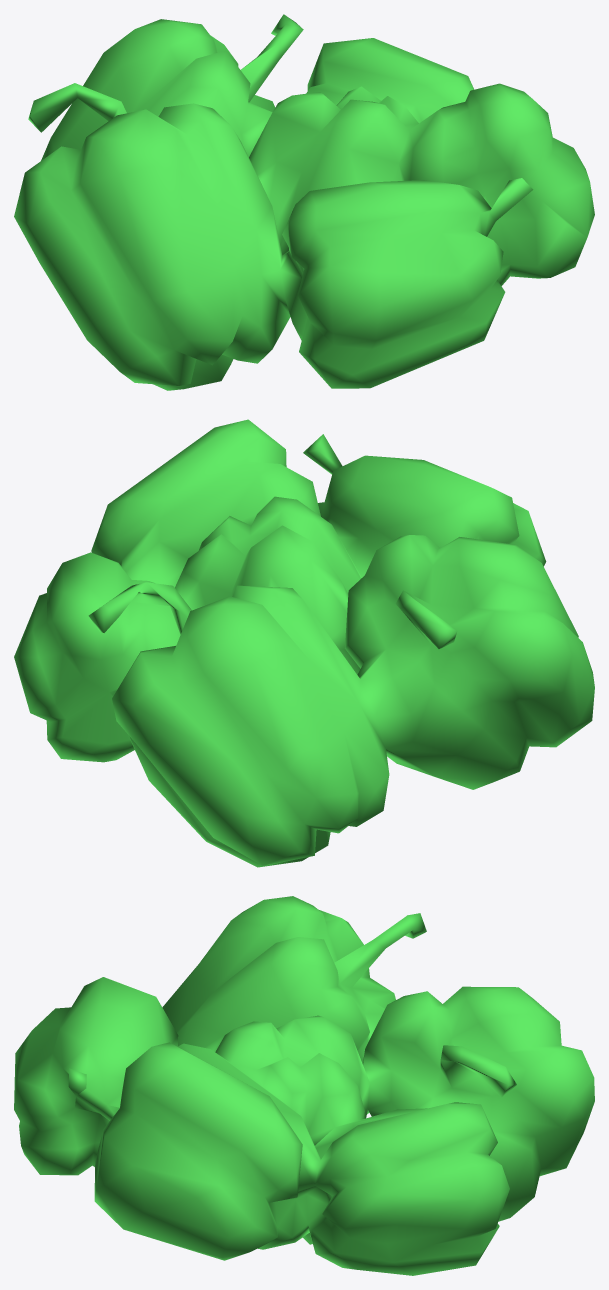
File: SM_town_paprikajoin.fbx
3 renders of one model, top to bottom at view 1: azimuth 30°, elevation 25°; view 2: azimuth 150°, elevation 25°; view 3: azimuth 270°, elevation 25°, orthographic. The views are drawn at different scales.
Parts seen in each view (by area): view 1: paprika_join; view 2: paprika_join; view 3: paprika_join.
Boxes of the visible parts, box(x1,y1,x2,y2) form: paprika_join: box(14, 14, 594, 390); paprika_join: box(14, 419, 594, 867); paprika_join: box(14, 896, 594, 1275).
Size of the model in its own units: 39.94 by 21.02 by 41.39.
